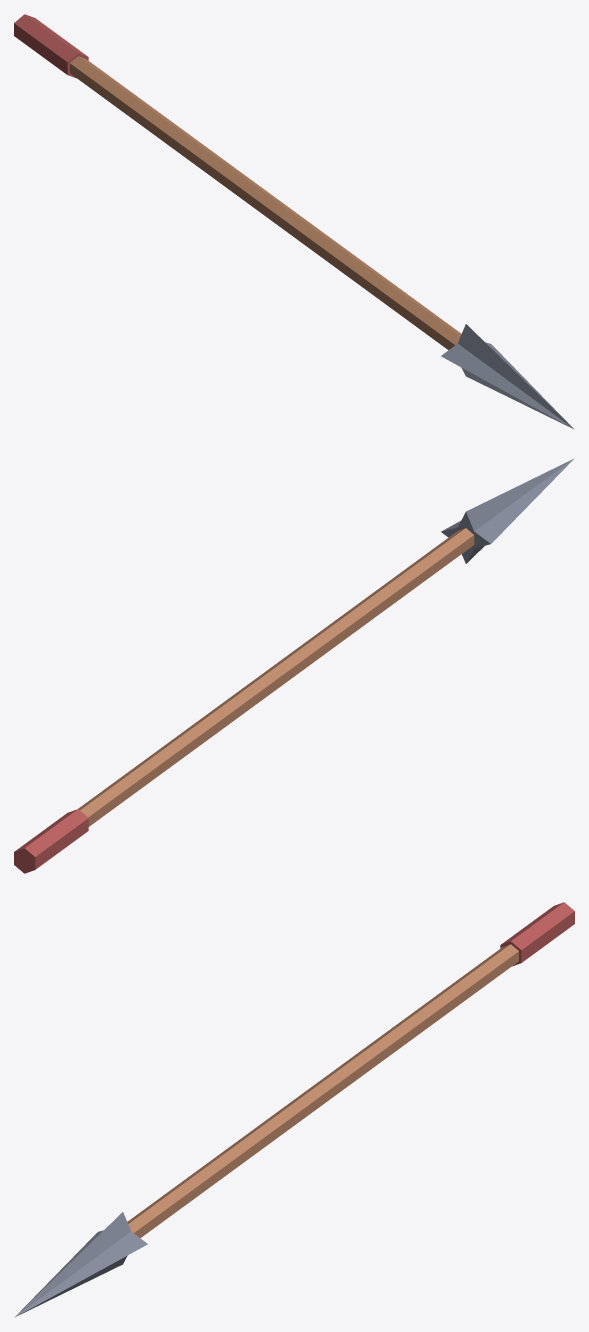
Rendered from arrow.fbx.
The picture shows the model from 3 angles, top to bottom: view 1: azimuth 30°, elevation 25°; view 2: azimuth 150°, elevation 25°; view 3: azimuth 330°, elevation 25°; orthographic projection.
Parts seen in each view (by area): view 1: polySurface15; view 2: polySurface15; view 3: polySurface15.
Part boxes in pixels (x1,y1,x2,y2): polySurface15: (14, 14, 574, 429); polySurface15: (14, 458, 574, 873); polySurface15: (14, 902, 574, 1317).
Size of the model in its own units: 0.182 by 0.182 by 3.44.
